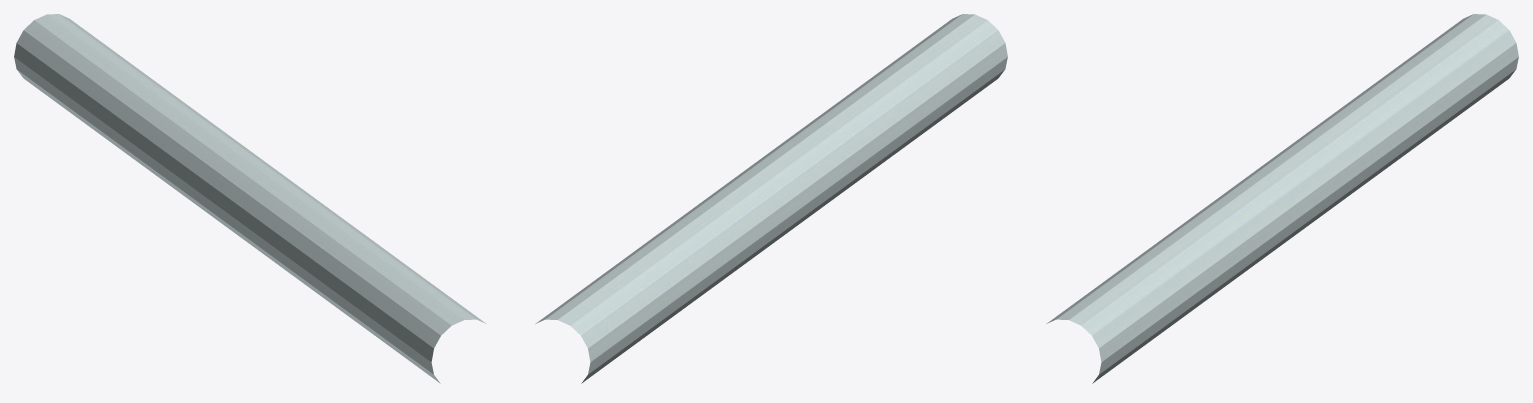
File: blq-11m30000020063991-geode.glb
3 renders of one model, left to right at view 1: azimuth 30°, elevation 25°; view 2: azimuth 150°, elevation 25°; view 3: azimuth 330°, elevation 25°, orthographic.
Visible parts, largest first — view 1: Node; view 2: Node; view 3: Node.
Part boxes in pixels (x1,y1,x2,y2): Node: [14, 14, 486, 383]; Node: [535, 14, 1007, 383]; Node: [1046, 14, 1518, 383].
Size of the model in its own units: 0.2998 by 0.3177 by 3.32.
1 material, 1 textured.
